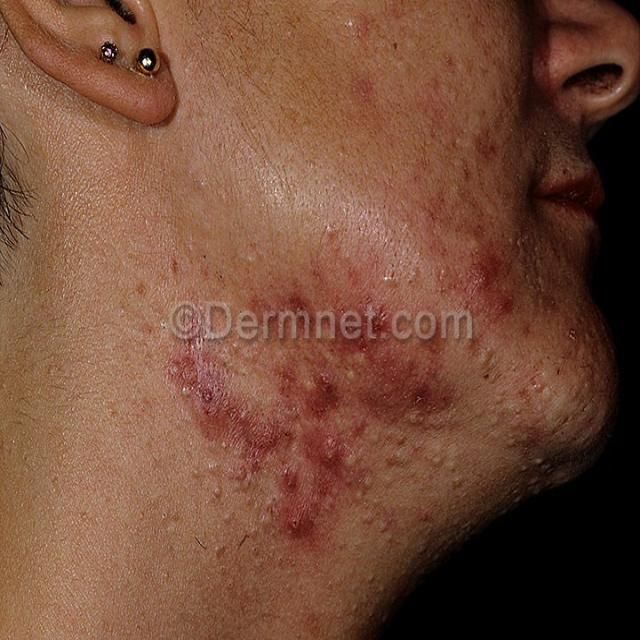acne: (296, 280, 426, 402), (150, 340, 270, 470), (251, 391, 351, 540), (434, 214, 526, 331)
